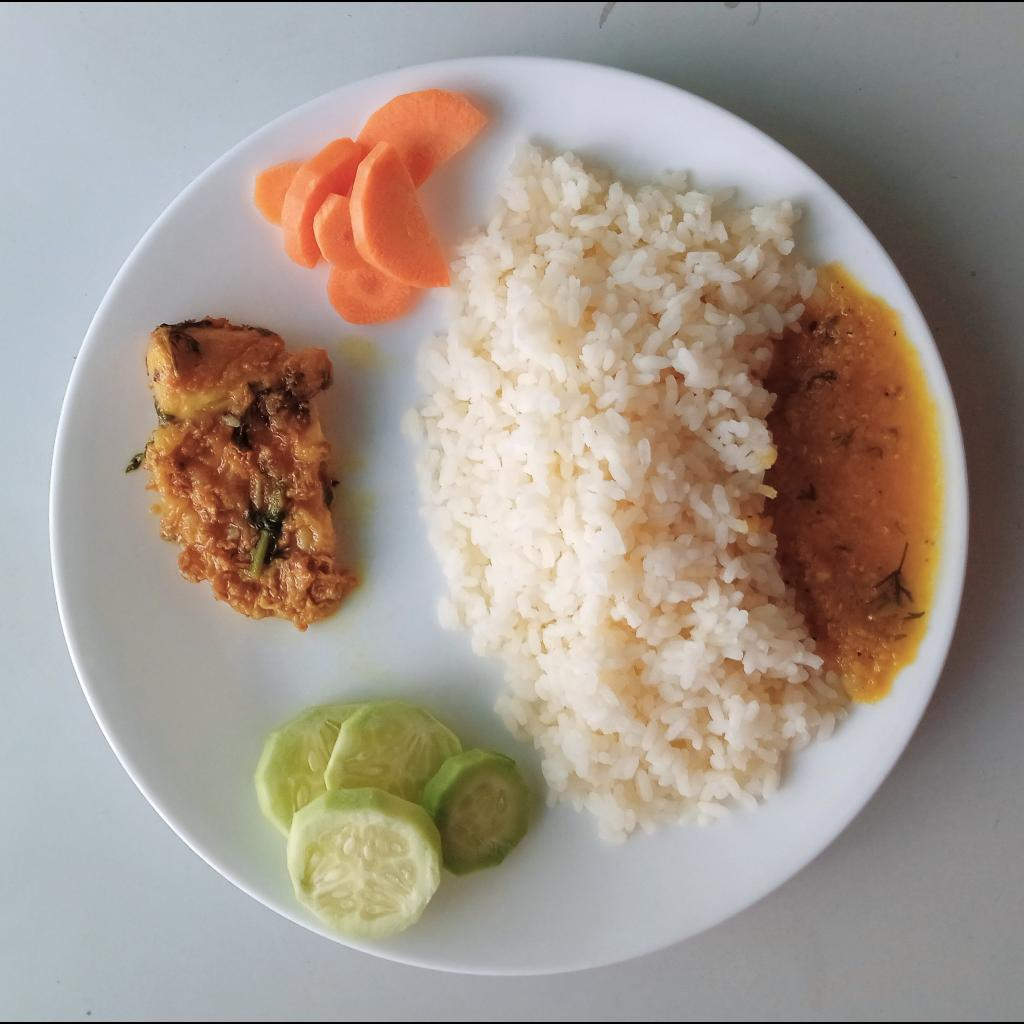carrot: (252, 89, 491, 325)
cucumber: (255, 702, 529, 937)
daal: (774, 262, 941, 706)
fish: (142, 313, 361, 632)
rice: (411, 137, 848, 844)
